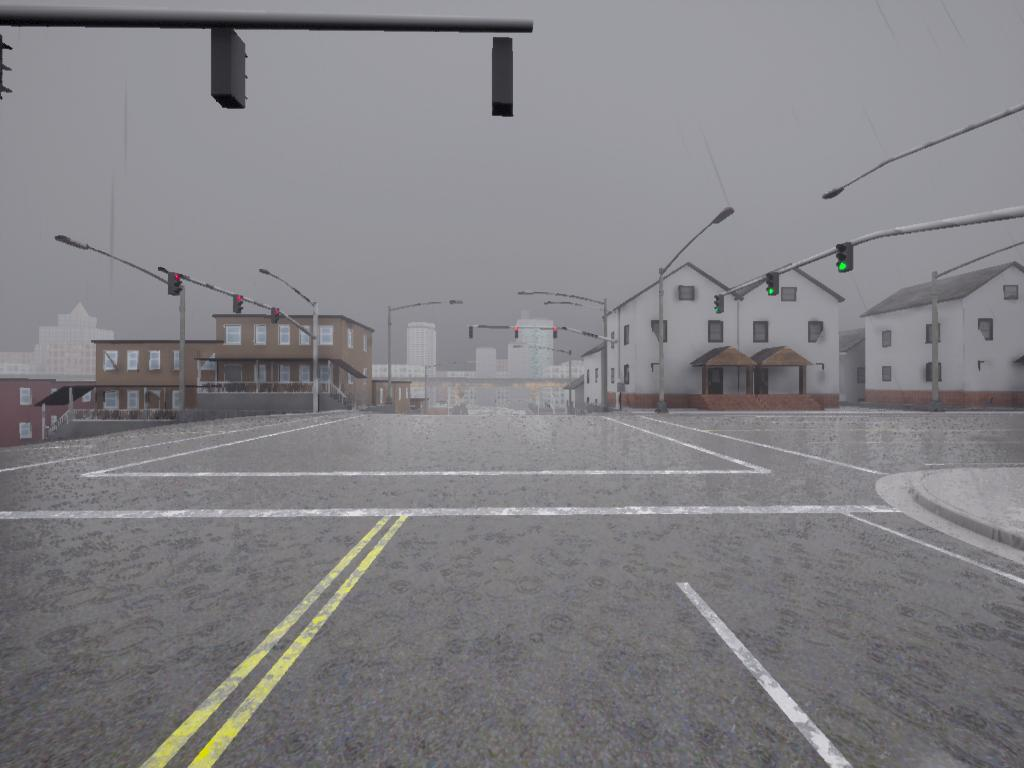traffic_light: (206, 28, 251, 121), (490, 33, 516, 121), (839, 246, 858, 274), (169, 273, 183, 295), (766, 275, 779, 298), (715, 294, 727, 314), (233, 295, 242, 313), (272, 309, 281, 323), (469, 326, 474, 341), (515, 327, 520, 341), (554, 327, 559, 340)
